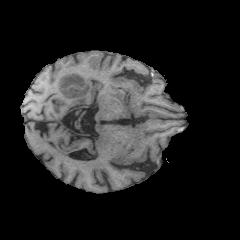glioma: (57, 71, 93, 97)
